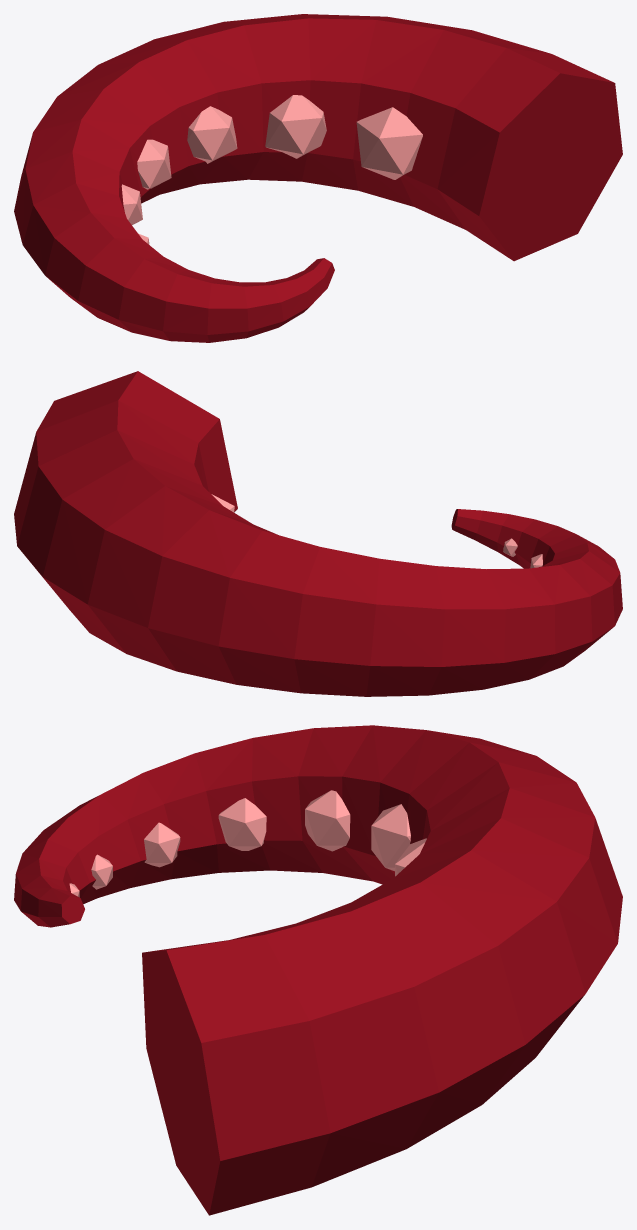
File: TrophyKraken.obj
The picture shows the model from 3 angles, top to bottom: view 1: azimuth 30°, elevation 25°; view 2: azimuth 150°, elevation 25°; view 3: azimuth 270°, elevation 25°; orthographic projection. The views are drawn at different scales.
Parts seen in each view (by area): view 1: TrophyKraken; view 2: TrophyKraken; view 3: TrophyKraken.
Boxes of the visible parts, x1=… form: TrophyKraken: x1=14, y1=14, x2=622, y2=342; TrophyKraken: x1=14, y1=371, x2=622, y2=696; TrophyKraken: x1=14, y1=725, x2=622, y2=1215.
Bounding box in the file's own units: 0.4782 × 0.1527 × 0.3346.
